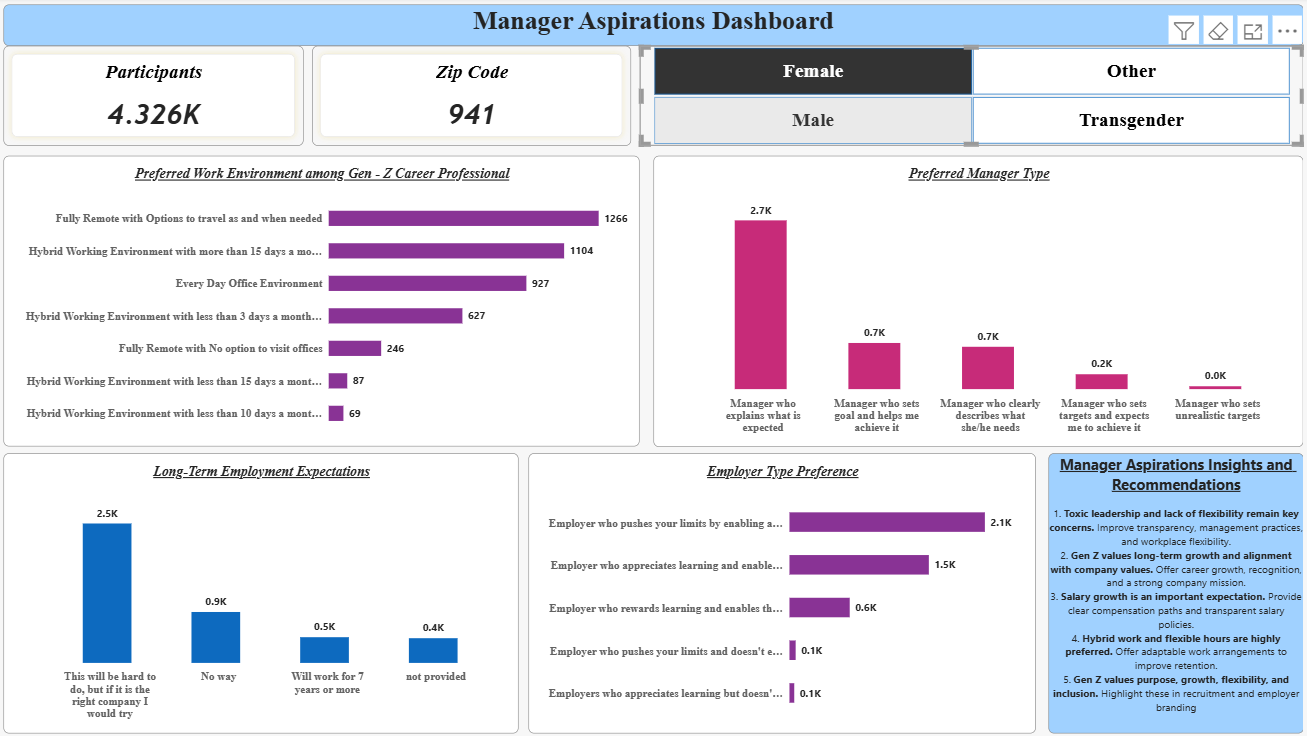

The dashboard page shown, as its layout file describes it:
{"tool":"powerbi","page":{"name":"Manager Aspirations Dashboard","canvas":[1920,1080],"ordinal":0},"visuals":[{"type":"cardVisual","fields":{"Data":["CountNonNull(Cleaned Dataset.Country)"]},"box":[17.7,78.3,438.8,179.1],"z":0},{"type":"cardVisual","fields":{"Data":["Measure.Total Zip Code"]},"box":[482.1,78.7,464.4,179.1],"z":1000},{"type":"slicer","fields":{"Values":["Cleaned Dataset.Gender"]},"box":[960.2,76.7,940.5,179.1],"z":2000},{"type":"barChart","title":"Preferred Work Environment among Gen - Z Career Professional  ","fields":{"Category":["Cleaned Dataset.Working Environment"],"Y":["CountNonNull(Cleaned Dataset.Working Environment)"]},"box":[17.7,273.5,928.7,369.9],"z":3000},{"type":"clusteredColumnChart","title":"Preferred Manager Type","fields":{"Category":["Cleaned Dataset.Manager Type"],"Y":["CountNonNull(Cleaned Dataset.Manager Type)"]},"box":[960.2,269.6,940.5,373.8],"z":4000},{"type":"columnChart","title":"Long-Term Employment Expectations","fields":{"Category":["Cleaned Dataset.Handle long-term employment"],"Y":["CountNonNull(Cleaned Dataset.Handle long-term employment)"]},"box":[17.7,661.1,745.7,405.3],"z":5000},{"type":"barChart","title":"Employer Type Preference","fields":{"Category":["Cleaned Dataset.Employer Type"],"Y":["CountNonNull(Cleaned Dataset.Employer Type)"]},"box":[779.2,661.1,733.9,405.3],"z":6000},{"type":"textbox","box":[1512.9,799.9,387.3,253.4],"z":7000},{"type":"textbox","box":[1530.8,661.1,369.9,405.3],"z":8000},{"type":"textbox","box":[17.7,13.8,1902.7,47.2],"z":9000}]}

Visuals, with their boxes in screenshot pixels (x1, y1, x2, y2), scaled from the page's 1920x1080 canvas onto the 1307x736 screenshot:
cardVisual - CountNonNull(Cleaned Dataset.Country): (12,53,311,175)
cardVisual - Measure.Total Zip Code: (328,54,644,176)
slicer - Cleaned Dataset.Gender: (654,52,1294,174)
"Preferred Work Environment among Gen - Z Career Professional  " barChart: (12,186,644,438)
"Preferred Manager Type" clusteredColumnChart: (654,184,1294,438)
"Long-Term Employment Expectations" columnChart: (12,451,520,727)
"Employer Type Preference" barChart: (530,451,1030,727)
textbox: (1030,545,1294,718)
textbox: (1042,451,1294,727)
textbox: (12,9,1306,42)
